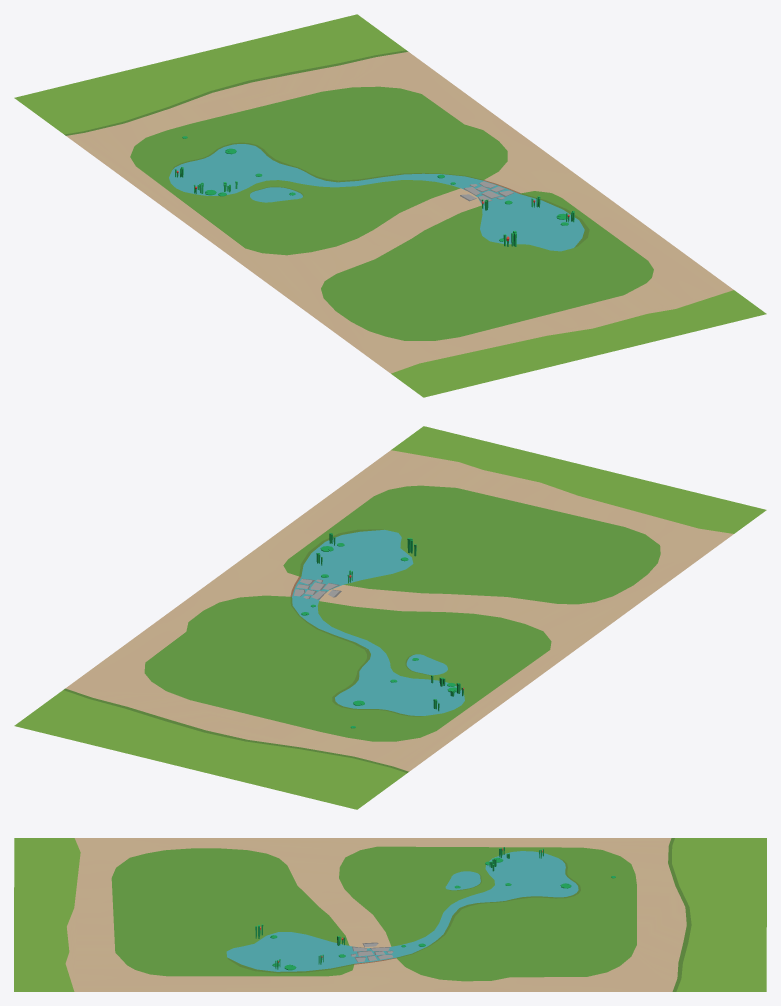
Rendered from kuozhan_05.FBX.
3 views of the same model, one above another, from view 1: azimuth 30°, elevation 25°; view 2: azimuth 150°, elevation 25°; view 3: azimuth 270°, elevation 25° (orthographic). The views are drawn at different scales.
Visible parts, largest first — view 1: kuozhan_05; view 2: kuozhan_05; view 3: kuozhan_05.
Boxes of the visible parts, left/top/right/bottom form: kuozhan_05: left=14, top=14, right=766, bottom=397; kuozhan_05: left=14, top=426, right=766, bottom=809; kuozhan_05: left=14, top=838, right=766, bottom=991.
Size of the model in its own units: 10600 by 648 by 21918.
